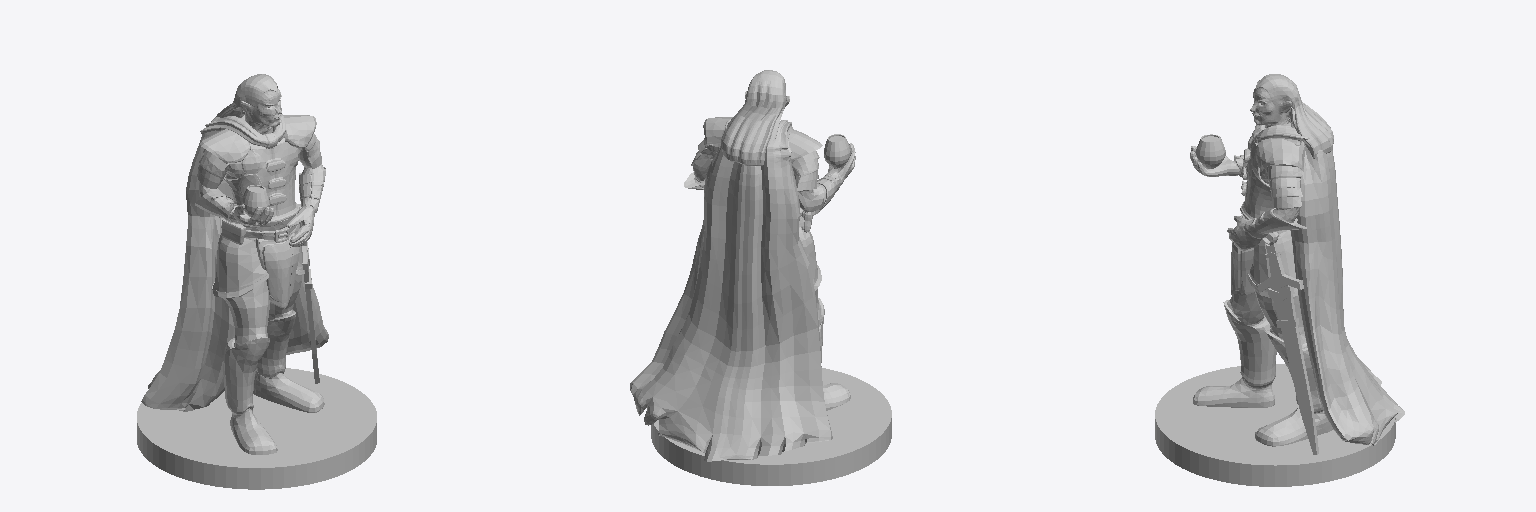
Rendered from strahd.obj.
The picture shows the model from 3 angles: view 1: azimuth 30°, elevation 25°; view 2: azimuth 150°, elevation 25°; view 3: azimuth 270°, elevation 25°; orthographic projection.
Visible parts, largest first — view 1: Strahd; view 2: Strahd; view 3: Strahd.
Part boxes in pixels (left/top/right/bottom): Strahd: left=137, top=74, right=376, bottom=489; Strahd: left=630, top=70, right=891, bottom=485; Strahd: left=1155, top=74, right=1404, bottom=486.
Bounding box in the file's own units: 25.59 × 41.87 × 26.23.